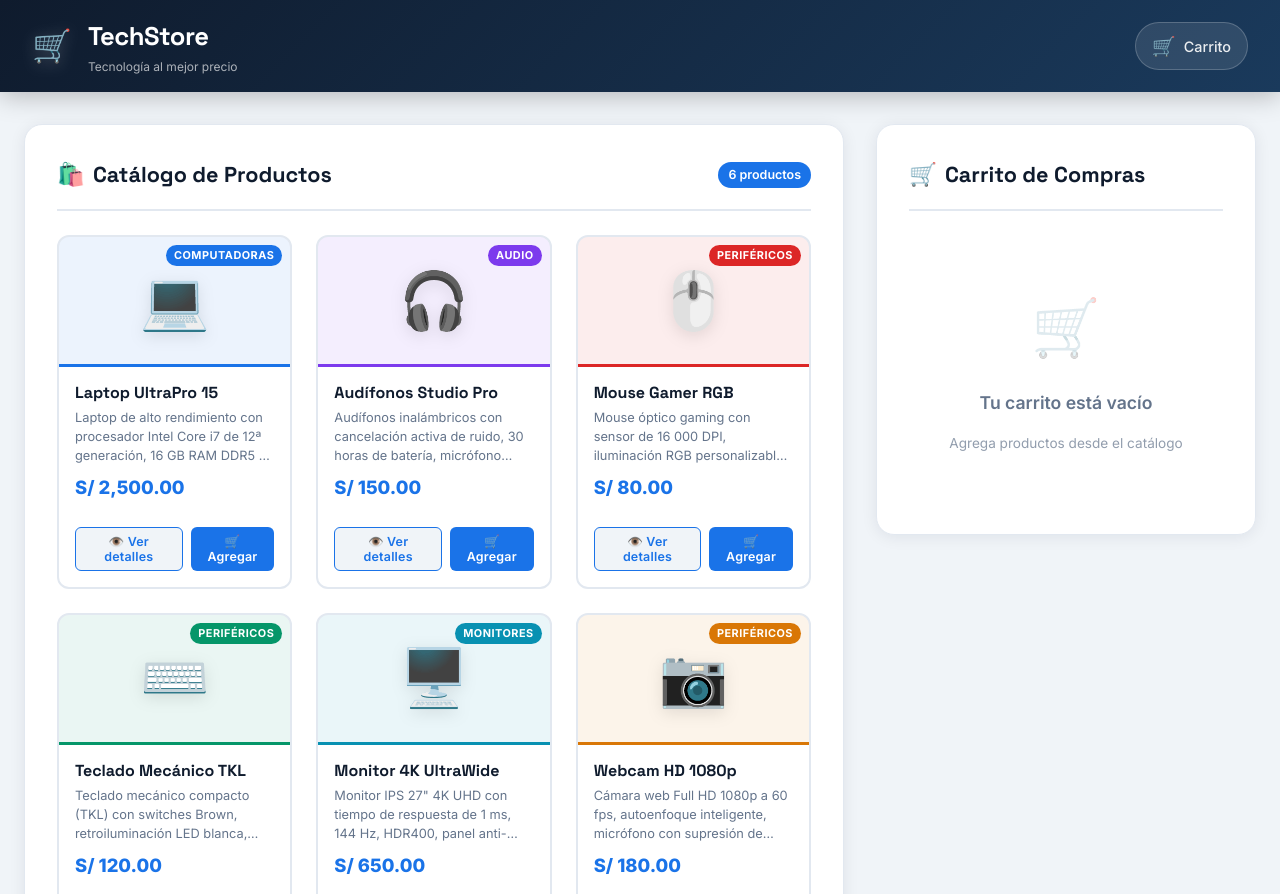
Prueba 7 — Eliminar producto actualiza carrito y total › al eliminar la laptop, el carrito queda vacío y desaparece el total
Click the button "🛒 Agregar" below "S/ 2,500.00".
click(232, 549)  # box 191,527 -> 274,571
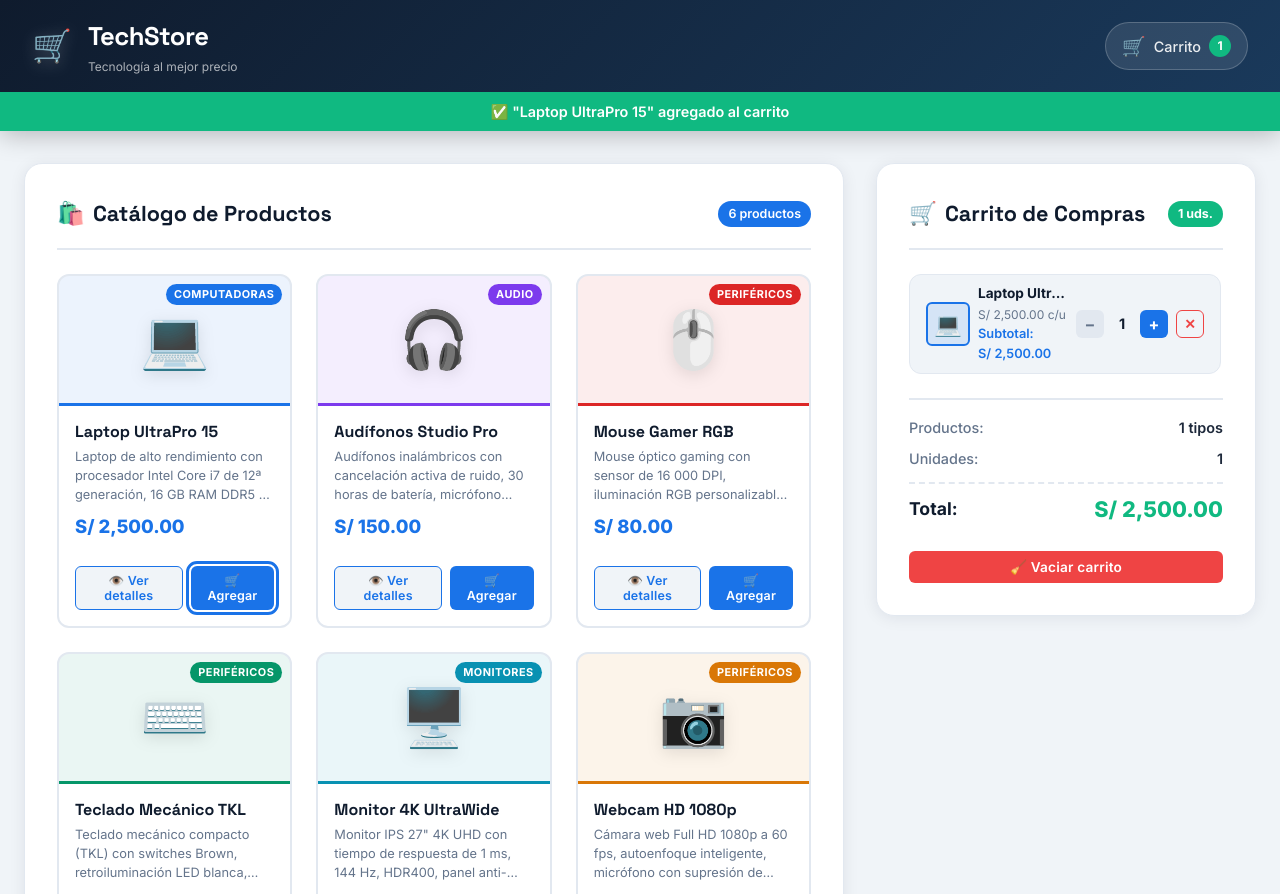
Click the button "✕".
click(1190, 324)  # box 1176,310 -> 1204,338
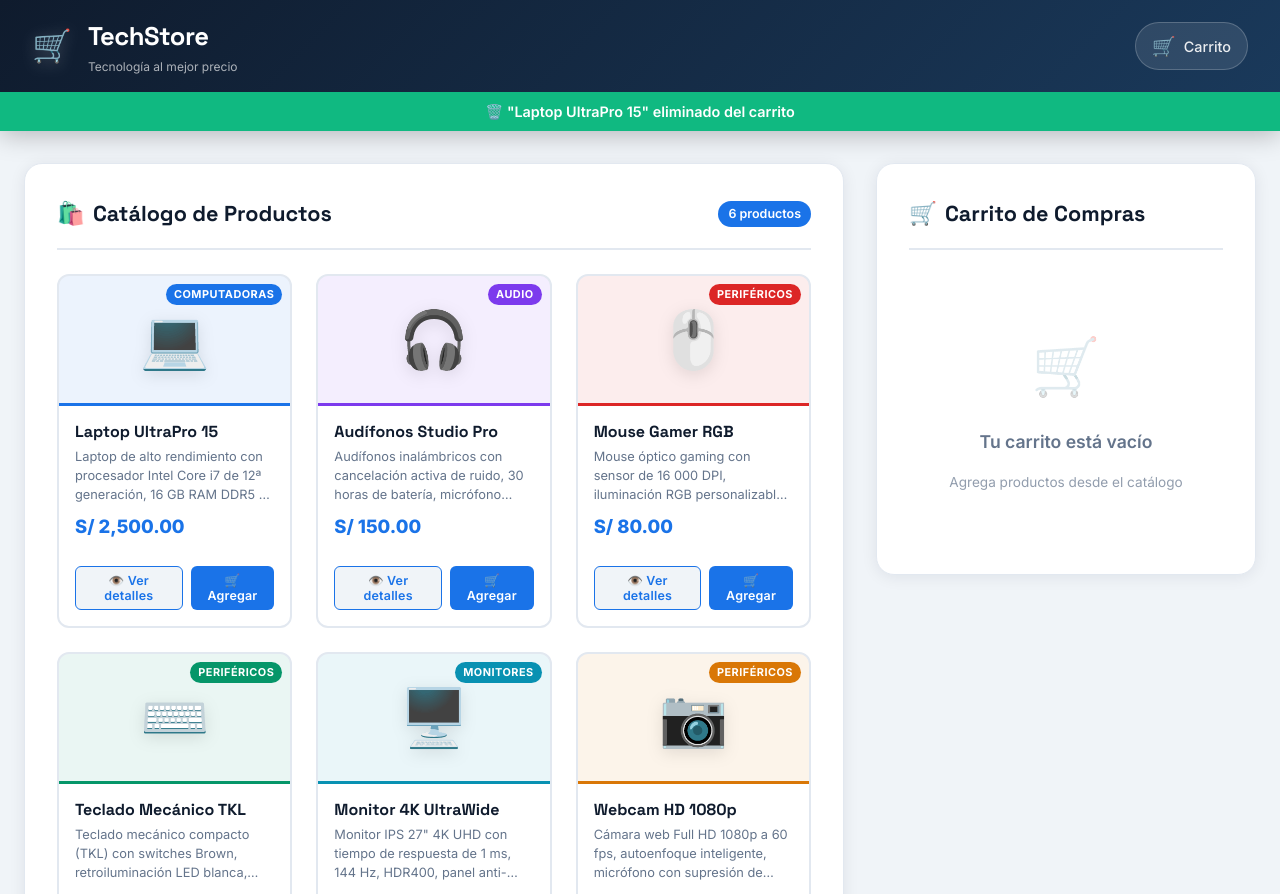
Expected: the message "🛒 Tu carrito está vacío Agrega productos desde el catálogo" is shown, 949,332 -> 1183,490
